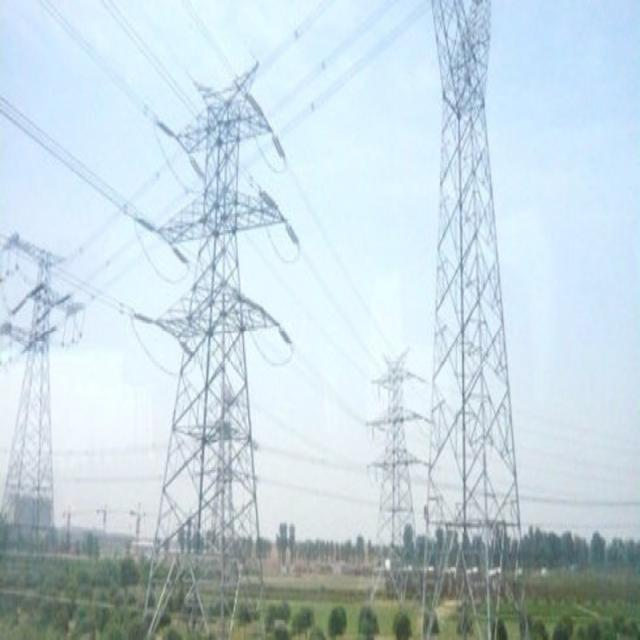non-critical vegetation: (154, 65, 292, 590), (420, 10, 530, 623), (8, 226, 74, 538), (365, 343, 425, 596)
